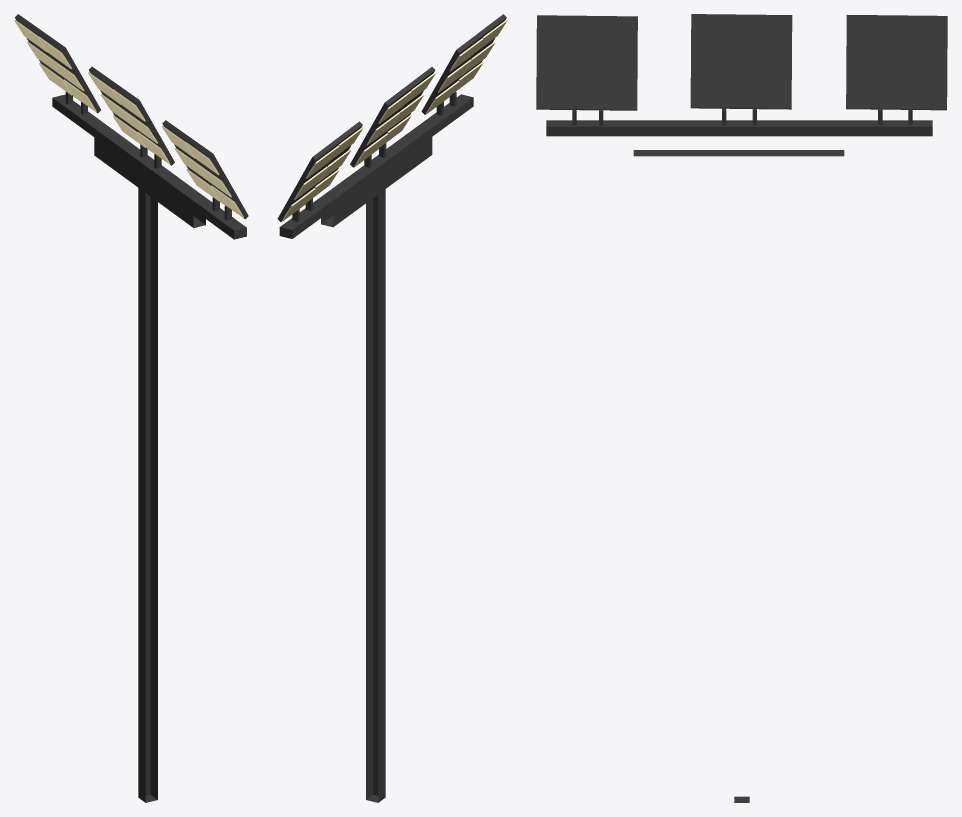
The model's file is skilamp.fbx.
3 views of the same model, side by side, from view 1: azimuth 30°, elevation 25°; view 2: azimuth 150°, elevation 25°; view 3: azimuth 270°, elevation 25° (orthographic). The views are drawn at different scales.
Visible parts, largest first — view 1: Cube.001; view 2: Cube.001; view 3: Cube.001.
Boxes of the visible parts, left/top/right/bottom form: Cube.001: left=14, top=14, right=248, bottom=802; Cube.001: left=277, top=14, right=507, bottom=802; Cube.001: left=536, top=14, right=947, bottom=802.
Bounding box in the file's own units: 84.39 × 1324 × 642.
